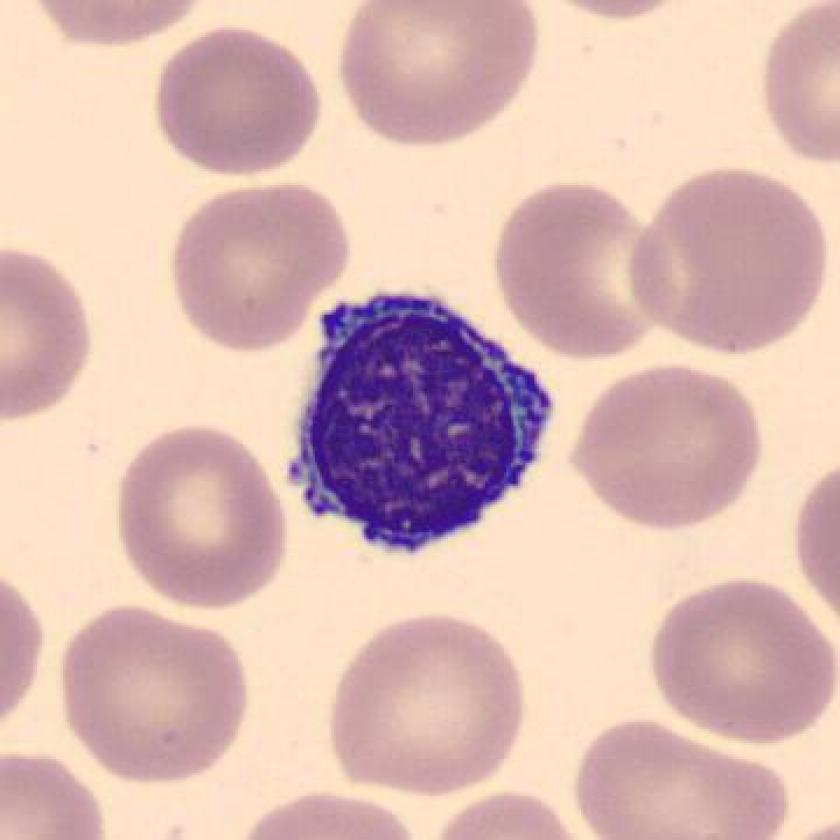lymphocyte: (274, 274, 563, 566)
